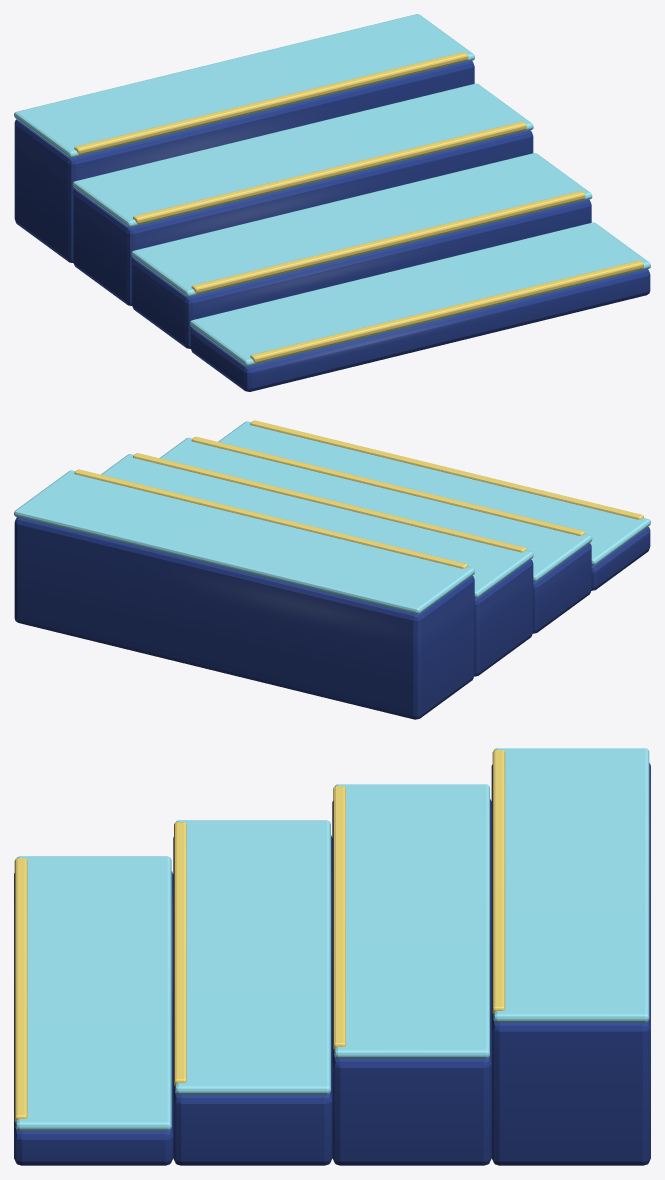
The model's file is IslandStairs.fbx.
3 views of the same model, one above another, from view 1: azimuth 30°, elevation 25°; view 2: azimuth 150°, elevation 25°; view 3: azimuth 270°, elevation 25° (orthographic). The views are drawn at different scales.
Parts seen in each view (by area): view 1: IslandStairs; view 2: IslandStairs; view 3: IslandStairs.
Boxes of the visible parts, left/top/right/bottom form: IslandStairs: left=14, top=14, right=650, bottom=391; IslandStairs: left=14, top=420, right=650, bottom=719; IslandStairs: left=14, top=748, right=650, bottom=1165.
Bounding box in the file's own units: 8 × 2.16 × 8.
1 material, 1 textured.
